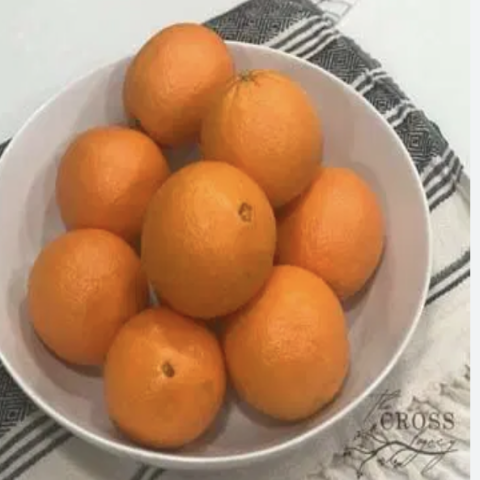orange: (137, 157, 282, 317), (251, 151, 409, 292), (216, 257, 350, 423), (96, 290, 226, 451), (7, 223, 152, 364), (118, 16, 243, 141)
